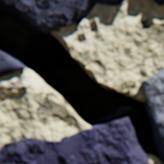brick: (0, 118, 149, 163), (143, 71, 163, 157), (153, 0, 163, 6)
broken_brick: (1, 0, 124, 33), (0, 52, 25, 77)
crack: (0, 0, 163, 163)
